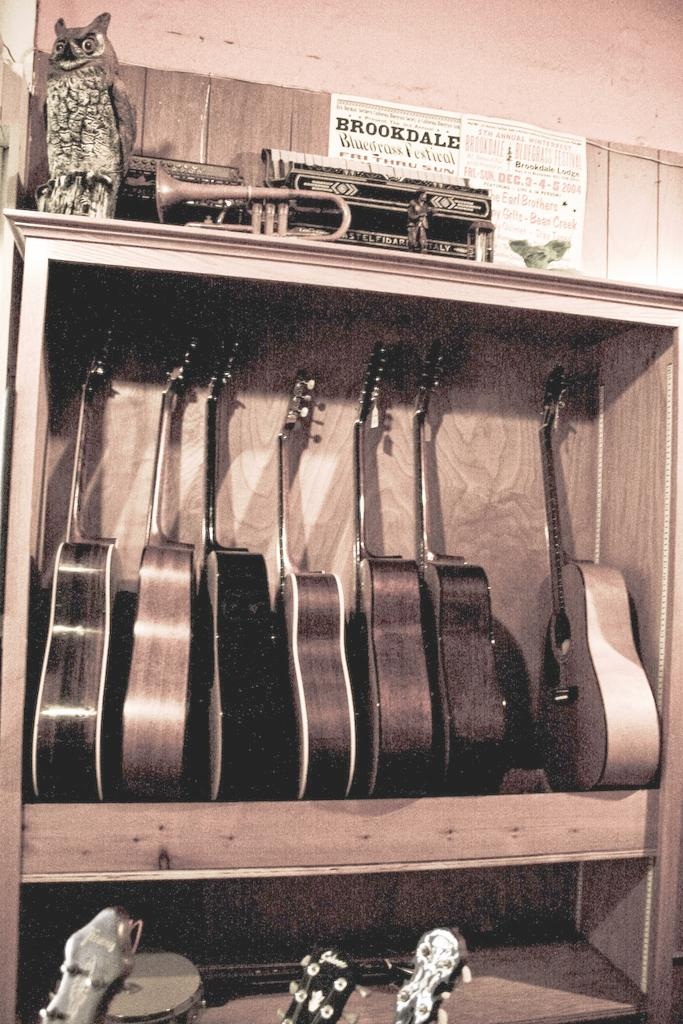Owl: (42, 4, 134, 227)
